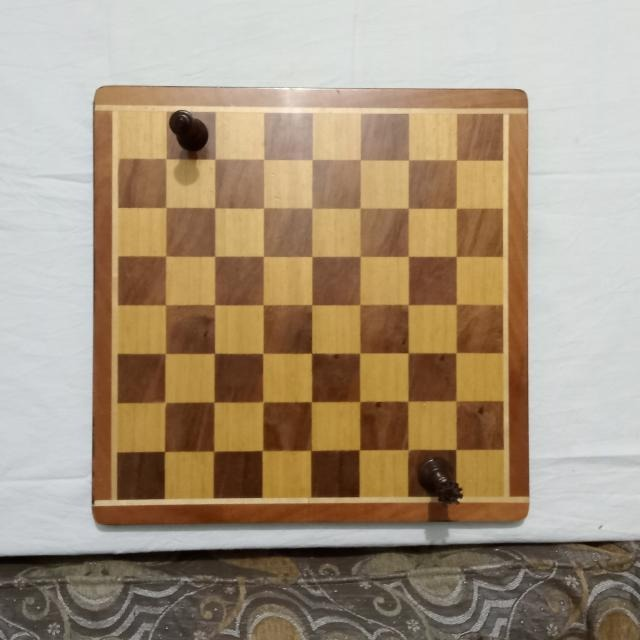black-bishop: (168, 108, 208, 152)
black-queen: (418, 456, 466, 506)
